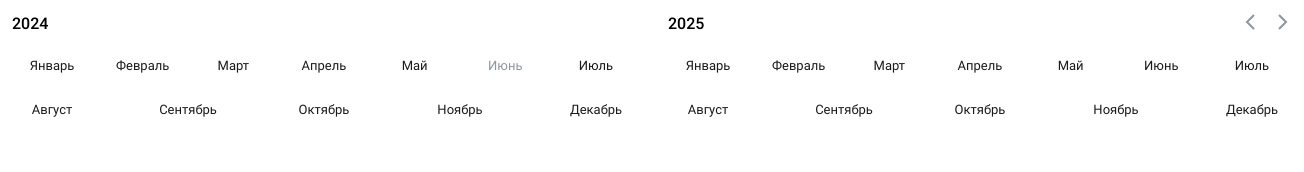
Компонент CalendarYearRange › При клике на неактивную ячейку первого года появляется попап
Click the 1st element showing "Июнь": click(505, 66) [488, 58, 522, 73]
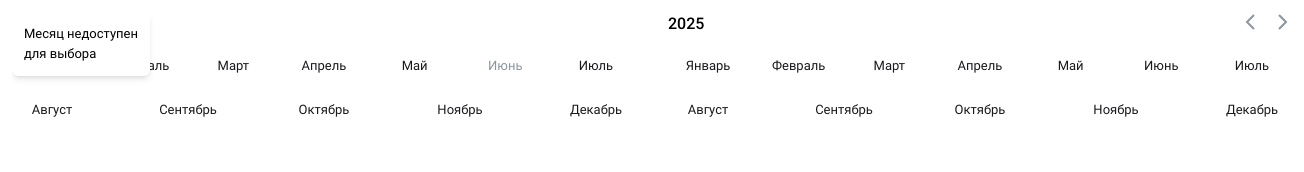
Expected: the text "Месяц недоступен для выбора" is shown, [24, 26, 138, 61]
